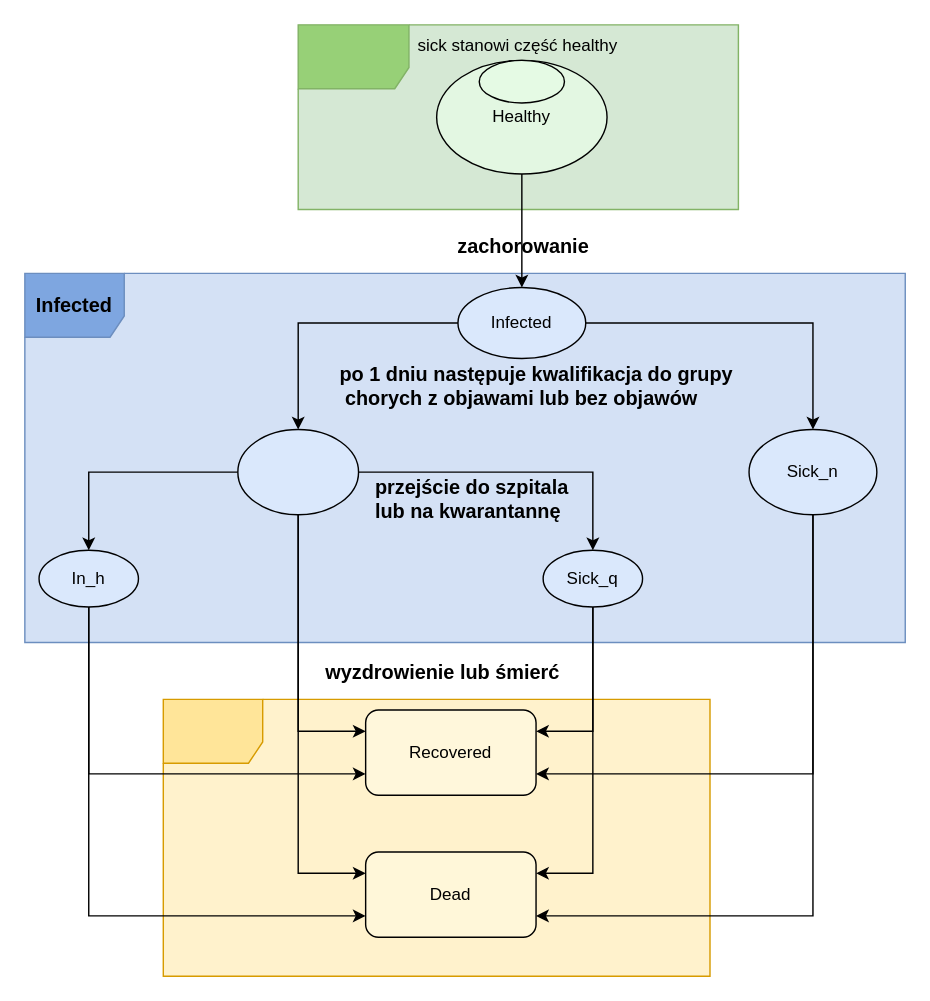
The diagram is 930 pixels wide and 1001 high, and some of its shapes have lost their labels. The shapes that lost their labels are listed below. From the top down, each one's box as (x1, y1, x2, y2) in pixels, then its label:
(478, 59, 564, 103): Sick
(297, 23, 738, 209): Susceptible
(236, 428, 359, 515): Inf_sick
(162, 698, 710, 976): Resistant
